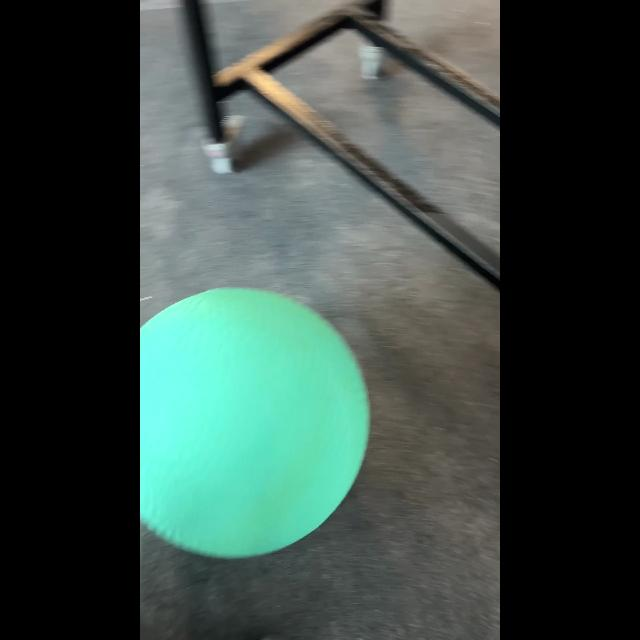ALGAE: (141, 286, 371, 558)
